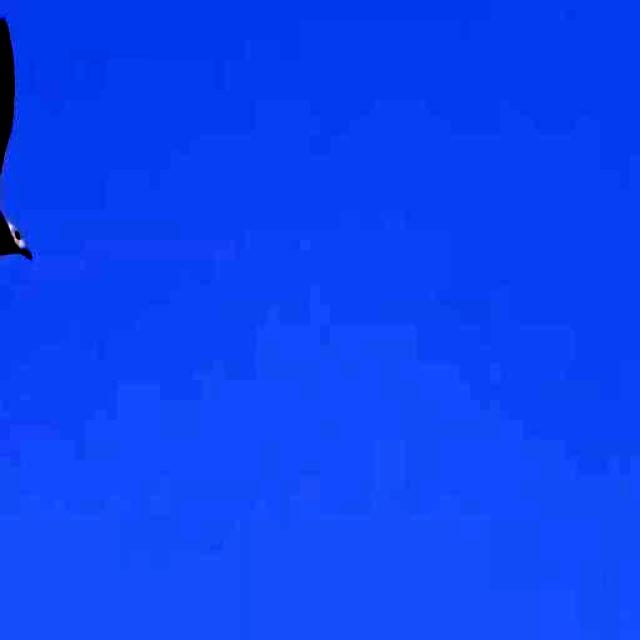airplane: (0, 0, 48, 439)
